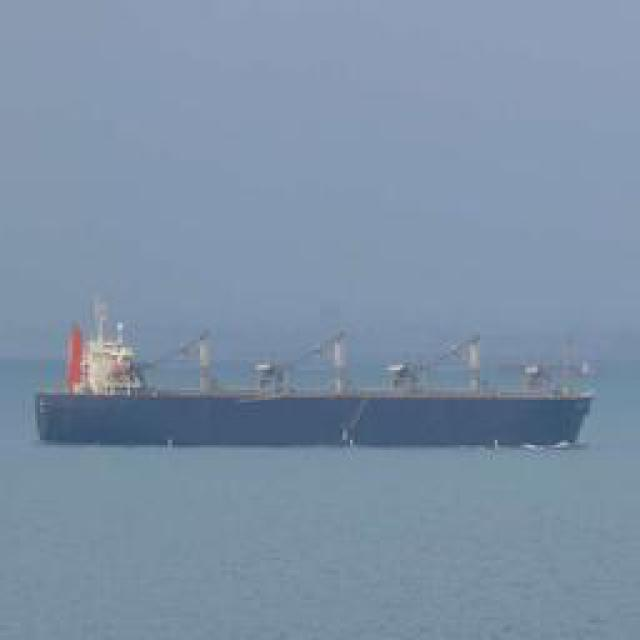Ship: (32, 320, 592, 450)
